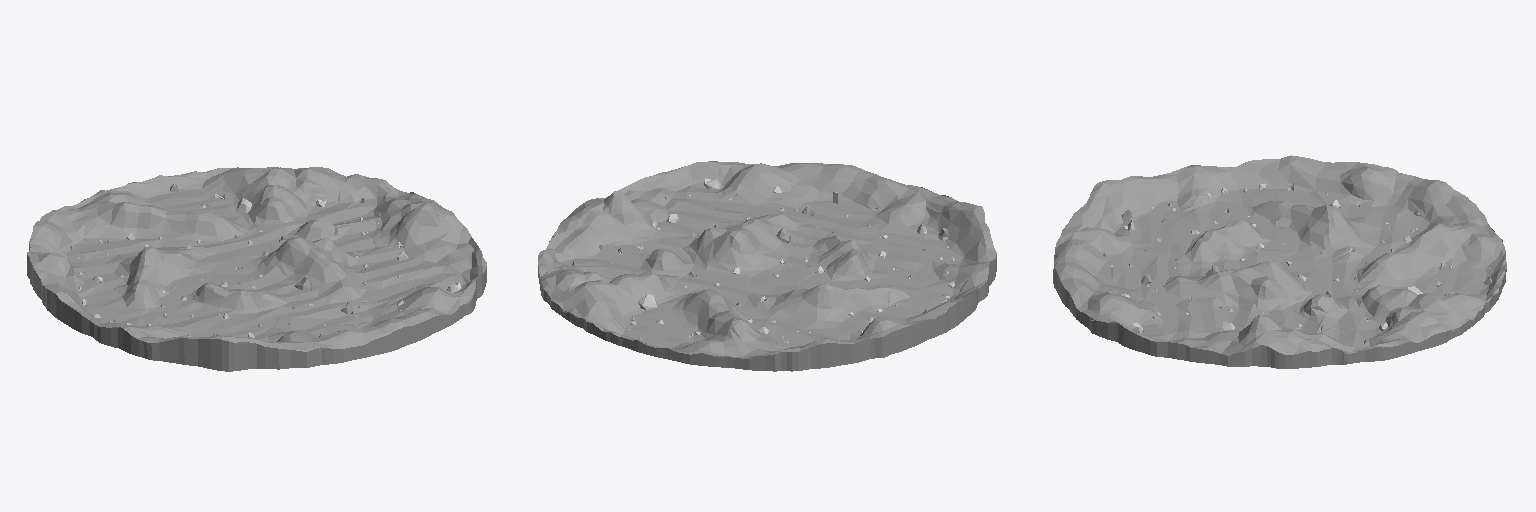
The model's file is all.obj.
3 views of the same model, side by side, from view 1: azimuth 30°, elevation 25°; view 2: azimuth 150°, elevation 25°; view 3: azimuth 270°, elevation 25° (orthographic).
Bounding box in the file's own units: 3704 × 348 × 3730.